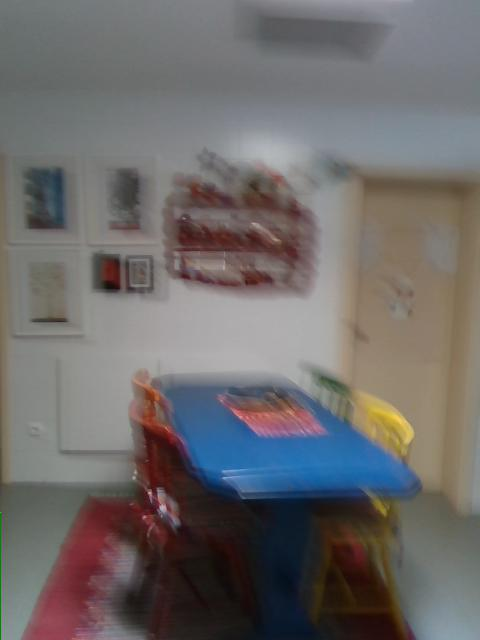door: (353, 180, 466, 494)
